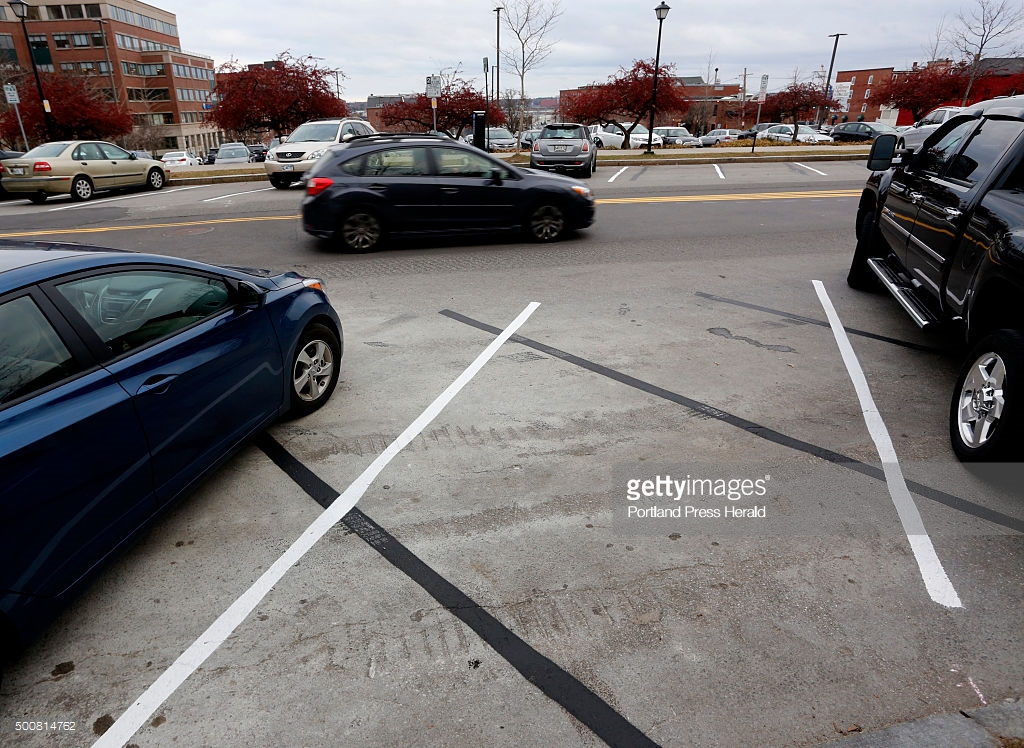empyt_space: (99, 260, 996, 748), (47, 175, 310, 214), (711, 155, 843, 187), (606, 157, 732, 190), (792, 153, 906, 185)
